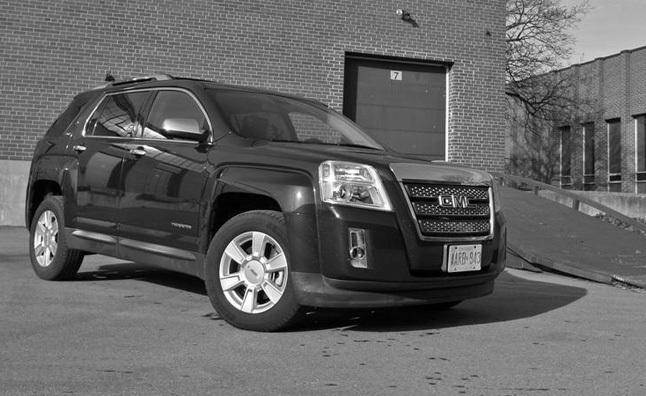car: (24, 75, 508, 333)
